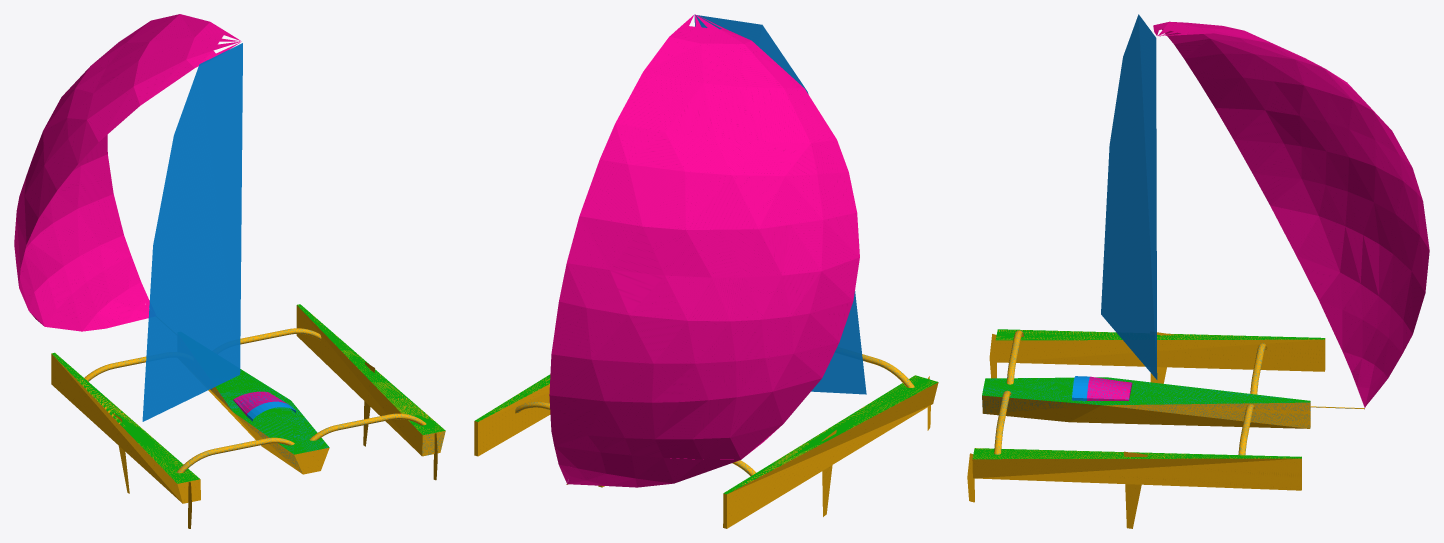
The model's file is TRIMARAN_SPI_TRIBORD.dae.
3 views of the same model, side by side, from view 1: azimuth 30°, elevation 25°; view 2: azimuth 150°, elevation 25°; view 3: azimuth 270°, elevation 25° (orthographic). The views are drawn at different scales.
Visible parts, largest first — view 1: SketchUp (×12); view 2: SketchUp (×5); view 3: SketchUp (×12).
Boxes of the visible parts, box(x1,y1,x2,y2) form: SketchUp (×12): box(14, 14, 445, 503); SketchUp (×5): box(474, 14, 938, 528); SketchUp (×12): box(972, 14, 1429, 528).
Size of the model in its own units: 102656 by 129262 by 135525.
